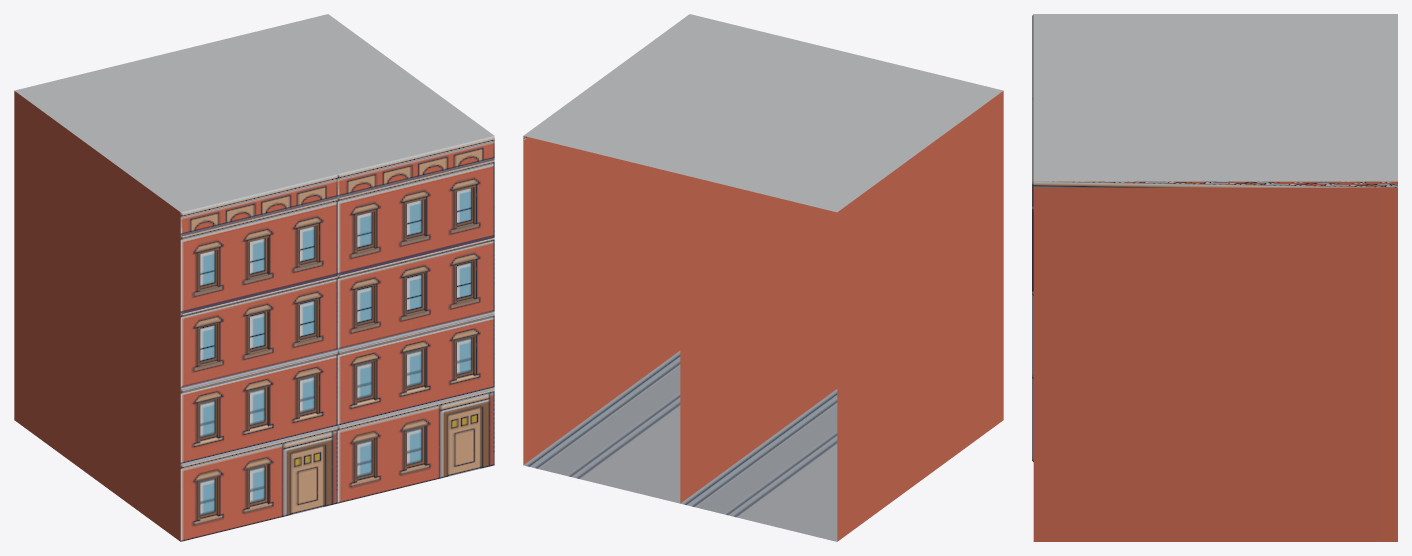
Rendered from doubleBuilding.FBX.
The picture shows the model from 3 angles, left to right: view 1: azimuth 30°, elevation 25°; view 2: azimuth 150°, elevation 25°; view 3: azimuth 270°, elevation 25°; orthographic projection. The views are drawn at different scales.
Parts seen in each view (by area): view 1: Plane002, Plane001; view 2: Plane001, Plane002; view 3: Plane001, Plane002.
Part boxes in pixels (<box>): Plane002: <box>14,52,337,541</box>; Plane001: <box>171,14,494,503</box>; Plane001: <box>523,14,846,503</box>; Plane002: <box>680,52,1003,541</box>; Plane001: <box>1032,97,1397,541</box>; Plane002: <box>1032,14,1397,99</box>.
Bounding box in the file's own units: 22.93 × 23 × 21.16.
Materials: 1 (1 with a texture image).
